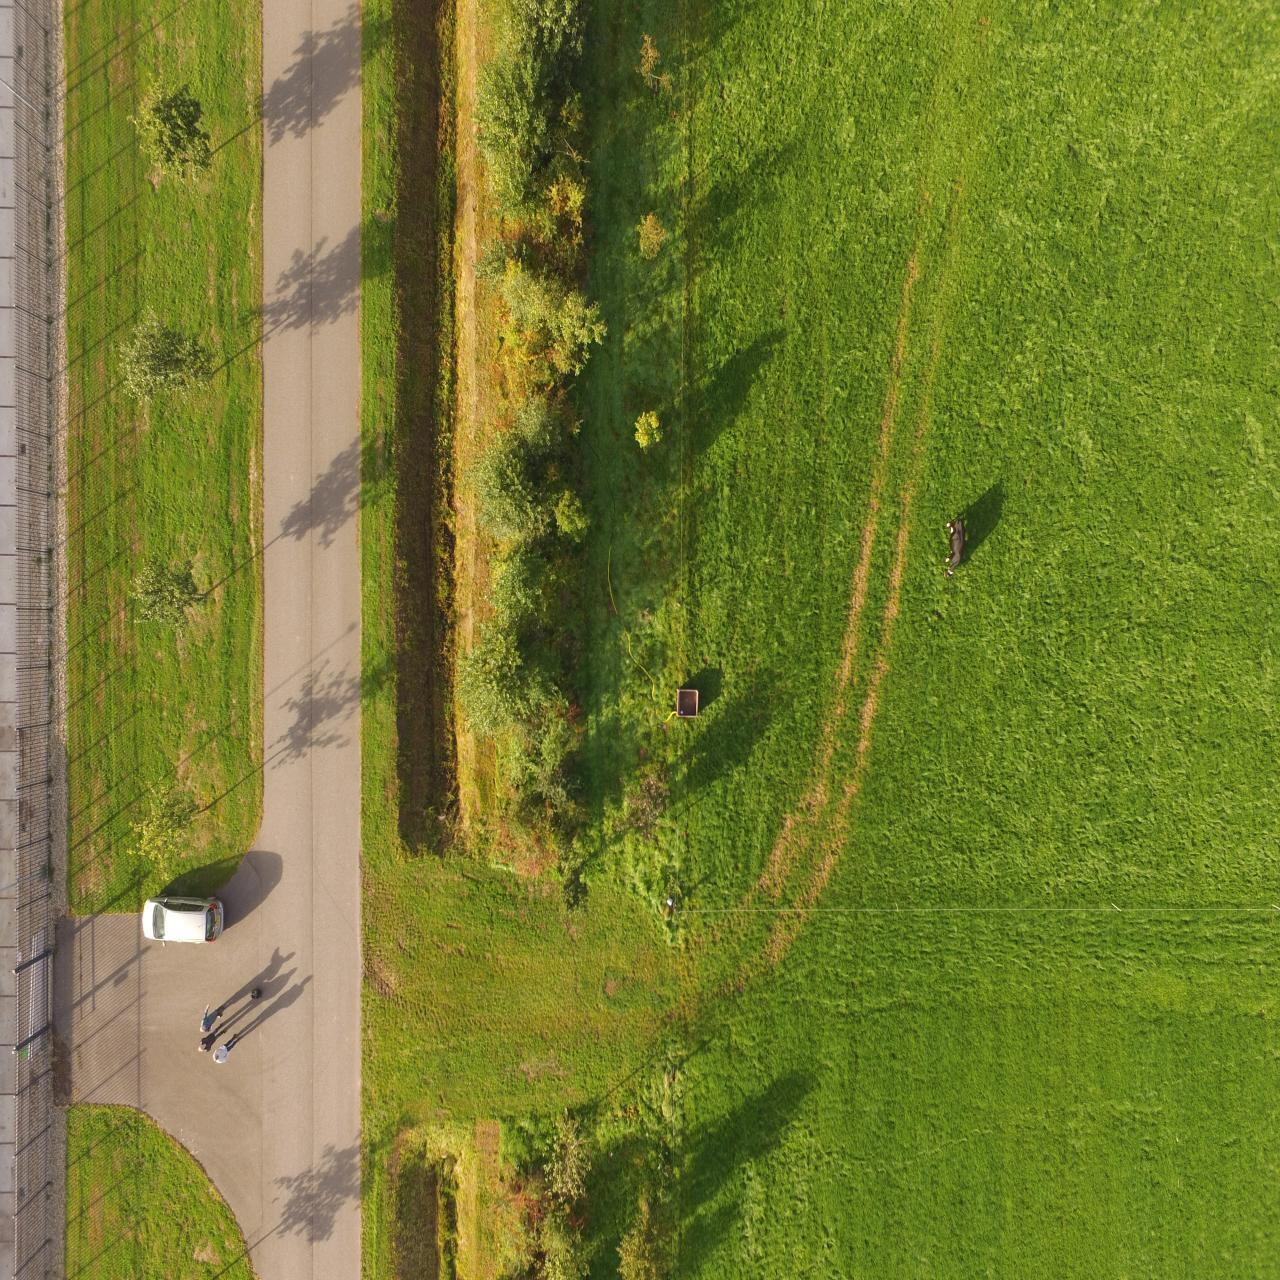cow: (942, 515, 968, 580)
